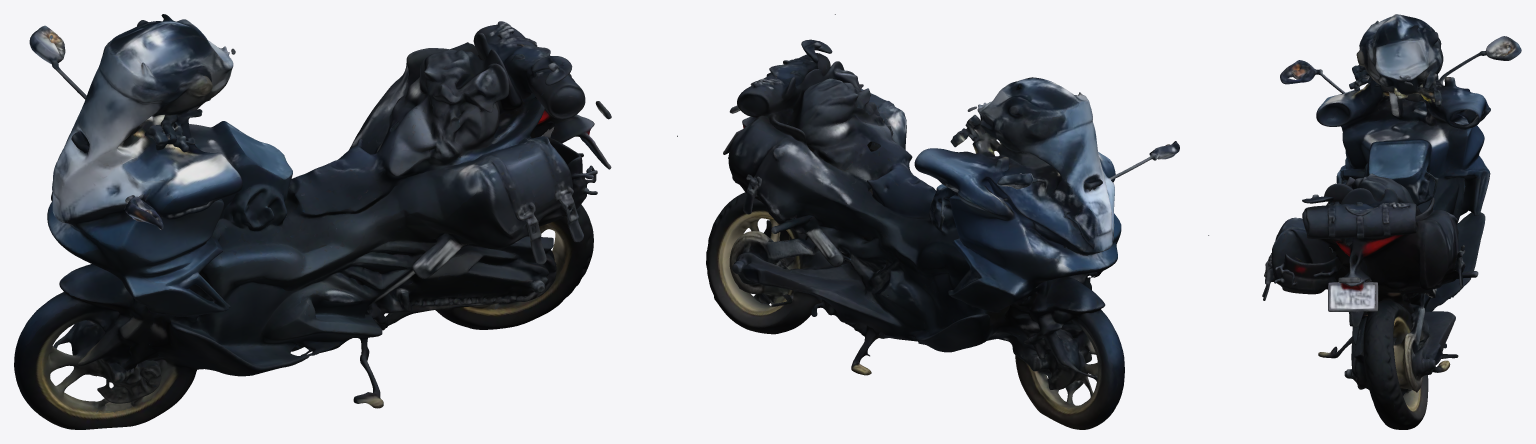
Rendered from forza750_mid.glb.
3 views of the same model, side by side, from view 1: azimuth 30°, elevation 25°; view 2: azimuth 150°, elevation 25°; view 3: azimuth 270°, elevation 25° (orthographic). The views are drawn at different scales.
Parts seen in each view (by area): view 1: world; view 2: world; view 3: world.
Boxes of the visible parts, x1,y1,x2,y2 form: world: (14, 14, 677, 429); world: (706, 14, 1179, 429); world: (1208, 14, 1521, 429).
Size of the model in its own units: 0.9937 by 0.6962 by 0.6829.
1 material, 1 textured.
